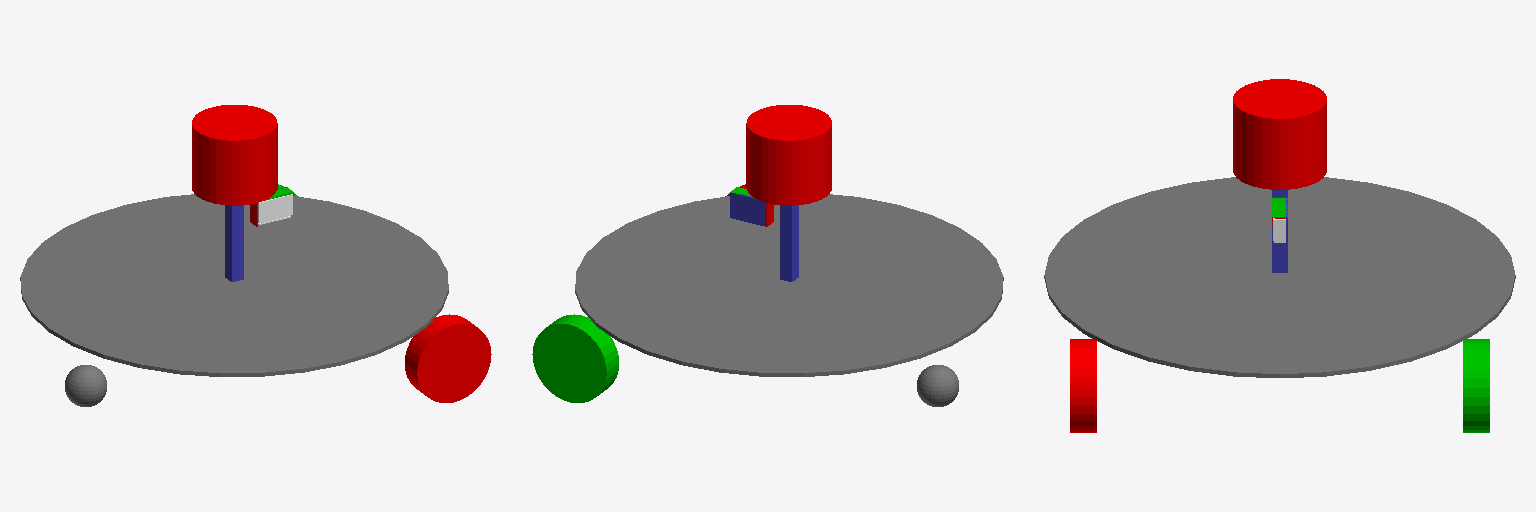
URDF robot description (dome2):
<?xml version="1.0"?>
<robot name="dome2">
  <material name="gray">
    <color rgba="0.5 0.5 0.5 1.0" />
  </material>
  <material name="black">
    <color rgba="0 0 0 1" />
  </material>
  <material name="red">
    <color rgba="1 0 0 1" />
  </material>
  <material name="blue">
    <color rgba="0.3 0.3 0.8 1" />
  </material>
  <material name="green">
    <color rgba="0 0.8 0 1" />
  </material>
  <material name="yellow">
    <color rgba="1 1 0 1" />
  </material>
  <material name="white">
    <color rgba="1 1 1 1" />
  </material>
  <link name="base_footprint" />
  <link name="base_link">
    <visual>
      <geometry>
        <cylinder radius="0.15" length="0.003" />
      </geometry>
      <material name="gray" />
    </visual>
    <collision>
      <geometry>
        <cylinder radius="0.15" length="0.003" />
      </geometry>
    </collision>
  </link>
  <link name="left_wheel">
    <visual>
      <origin rpy="1.5707963267948966 0 0" />
      <geometry>
        <cylinder radius="0.03" length="0.0175" />
      </geometry>
      <material name="green" />
    </visual>
    <collision>
      <origin rpy="1.5707963267948966 0 0" />
      <geometry>
        <cylinder radius="0.03" length="0.0175" />
      </geometry>
    </collision>
  </link>
  <link name="right_wheel">
    <visual>
      <origin rpy="1.5707963267948966 0 0" />
      <geometry>
        <cylinder radius="0.03" length="0.0175" />
      </geometry>
      <material name="red" />
    </visual>
    <collision>
      <origin rpy="1.5707963267948966 0 0" />
      <geometry>
        <cylinder radius="0.03" length="0.0175" />
      </geometry>
    </collision>
  </link>
  <link name="caster">
    <visual>
      <geometry>
        <sphere radius="0.015" />
      </geometry>
      <material name="gray" />
    </visual>
    <collision>
      <geometry>
        <sphere radius="0.015" />
      </geometry>
    </collision>
  </link>
  <link name="laser_post_link">
    <visual>
      <geometry>
        <box size="0.01 0.01 0.09" />
      </geometry>
      <material name="blue" />
    </visual>
    <collision>
      <geometry>
        <box size="0.01 0.01 0.09" />
      </geometry>
    </collision>
  </link>
  <link name="laser">
    <visual>
      <geometry>
        <cylinder radius="0.03" length="0.05" />
      </geometry>
      <material name="red" />
    </visual>
    <collision>
      <geometry>
        <cylinder radius="0.03" length="0.05" />
      </geometry>
    </collision>
  </link>
  <link name="imu_link" />
  <link name="imu_top_link">
    <visual>
      <geometry>
        <box size="0.03 0.02 0.001" />
      </geometry>
      <material name="blue" />
    </visual>
    <collision>
      <geometry>
        <box size="0.03 0.02 0.001" />
      </geometry>
    </collision>
  </link>
  <link name="imu_bottom_link">
    <visual>
      <geometry>
        <box size="0.026 0.016 0.001" />
      </geometry>
      <material name="white" />
    </visual>
    <collision>
      <geometry>
        <box size="0.026 0.016 0.001" />
      </geometry>
    </collision>
  </link>
  <link name="imu_front_link">
    <visual>
      <geometry>
        <box size="0.001 0.02 0.01" />
      </geometry>
      <material name="red" />
    </visual>
    <collision>
      <geometry>
        <box size="0.001 0.02 0.01" />
      </geometry>
    </collision>
  </link>
  <link name="imu_back_link">
    <visual>
      <geometry>
        <box size="0.001 0.016 0.008" />
      </geometry>
      <material name="white" />
    </visual>
    <collision>
      <geometry>
        <box size="0.001 0.016 0.008" />
      </geometry>
    </collision>
  </link>
  <link name="imu_left_link">
    <visual>
      <geometry>
        <box size="0.03 0.001 0.01" />
      </geometry>
      <material name="green" />
    </visual>
    <collision>
      <geometry>
        <box size="0.03 0.001 0.01" />
      </geometry>
    </collision>
  </link>
  <link name="imu_right_link">
    <visual>
      <geometry>
        <box size="0.026 0.001 0.008" />
      </geometry>
      <material name="white" />
    </visual>
    <collision>
      <geometry>
        <box size="0.026 0.001 0.008" />
      </geometry>
    </collision>
  </link>
  <link name="origin_marker_link">
    <visual>
      <geometry>
        <sphere radius="0.001" />
      </geometry>
      <material name="yellow" />
    </visual>
    <collision>
      <geometry>
        <sphere radius="0.001" />
      </geometry>
    </collision>
  </link>
  <joint name="base_footprint_to_base_link" type="fixed">
    <parent link="base_footprint" />
    <child link="base_link" />
    <origin xyz="0 0 0.05" />
  </joint>
  <joint name="base_link_to_left_wheel" type="continuous">
    <parent link="base_link" />
    <child link="left_wheel" />
    <origin xyz="0.1 0.125 -0.03" />
    <axis xyz="0 1 0" />
  </joint>
  <joint name="base_link_to_right_wheel" type="continuous">
    <parent link="base_link" />
    <child link="right_wheel" />
    <origin xyz="0.1 -0.125 -0.03" />
    <axis xyz="0 1 0" />
  </joint>
  <joint name="base_link_to_caster" type="fixed">
    <parent link="base_link" />
    <child link="caster" />
    <origin xyz="-0.12 0 -0.05" />
  </joint>
  <joint name="base_link_to_imu_link" type="fixed">
    <parent link="base_link" />
    <child link="imu_link" />
    <origin xyz="0.03 0 0.053" rpy="1.5707963267948966 0 3.141592653589793" />
  </joint>
  <joint name="imu_link_to_imu_top_link" type="fixed">
    <parent link="imu_link" />
    <child link="imu_top_link" />
    <origin xyz="0 0 0.0045" />
  </joint>
  <joint name="imu_link_to_imu_bottom_link" type="fixed">
    <parent link="imu_link" />
    <child link="imu_bottom_link" />
    <origin xyz="0 0 -0.004" />
  </joint>
  <joint name="imu_link_to_imu_front_link" type="fixed">
    <parent link="imu_link" />
    <child link="imu_front_link" />
    <origin xyz="0.0145 0 0" />
  </joint>
  <joint name="imu_link_to_imu_back_link" type="fixed">
    <parent link="imu_link" />
    <child link="imu_back_link" />
    <origin xyz="-0.014 0 0" />
  </joint>
  <joint name="imu_link_to_imu_left_link" type="fixed">
    <parent link="imu_link" />
    <child link="imu_left_link" />
    <origin xyz="0 0.0095 0" />
  </joint>
  <joint name="imu_link_to_imu_right_link" type="fixed">
    <parent link="imu_link" />
    <child link="imu_right_link" />
    <origin xyz="0 -0.009 0" />
  </joint>
  <joint name="base_link_to_origin_marker_link" type="fixed">
    <parent link="base_link" />
    <child link="origin_marker_link" />
    <origin xyz="0 0 0" />
  </joint>
  <joint name="base_link_to_laser_post_link" type="fixed">
    <parent link="base_link" />
    <child link="laser_post_link" />
    <origin xyz="0 0 0.05" />
  </joint>
  <joint name="base_link_to_laser" type="fixed">
    <parent link="base_link" />
    <child link="laser" />
    <origin xyz="0 0 0.1" />
  </joint>
</robot>

--- Facts derived from the render (not from the file) ---
Views: 3 orthographic renders of the robot side by side, from view 1: azimuth 30°, elevation 25°; view 2: azimuth 150°, elevation 25°; view 3: azimuth 270°, elevation 25°.
Model dome2 with 15 links and 14 joints (2 continuous, 12 fixed), rooted at base_footprint, posed all joints at 0.
Visible links, largest first — view 1: base_link, laser, right_wheel, caster, laser_post_link, imu_bottom_link; view 2: base_link, laser, left_wheel, caster, laser_post_link, imu_top_link; view 3: base_link, laser, left_wheel, right_wheel, laser_post_link.
Link boxes in pixels (x1,y1,x2,y2): base_link: (20,194,448,376); laser: (192,105,277,205); right_wheel: (405,314,491,402); caster: (65,365,106,406); laser_post_link: (225,205,243,281); imu_bottom_link: (258,195,290,223); base_link: (575,194,1003,376); laser: (746,105,831,205); left_wheel: (532,314,618,402); caster: (917,365,958,406); laser_post_link: (780,205,798,281); imu_top_link: (730,192,765,226); base_link: (1044,177,1515,377); laser: (1233,79,1326,189); left_wheel: (1463,339,1489,432); right_wheel: (1070,339,1096,432); laser_post_link: (1272,190,1287,272).
Size in the robot's own frame: 0.3 by 0.3 by 0.19 metres.
Geometry: primitives only (box / cylinder / sphere), no mesh files.